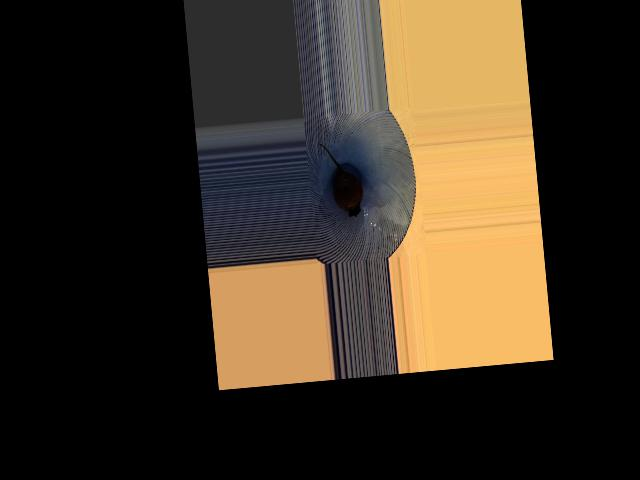beet: (318, 140, 364, 219)
